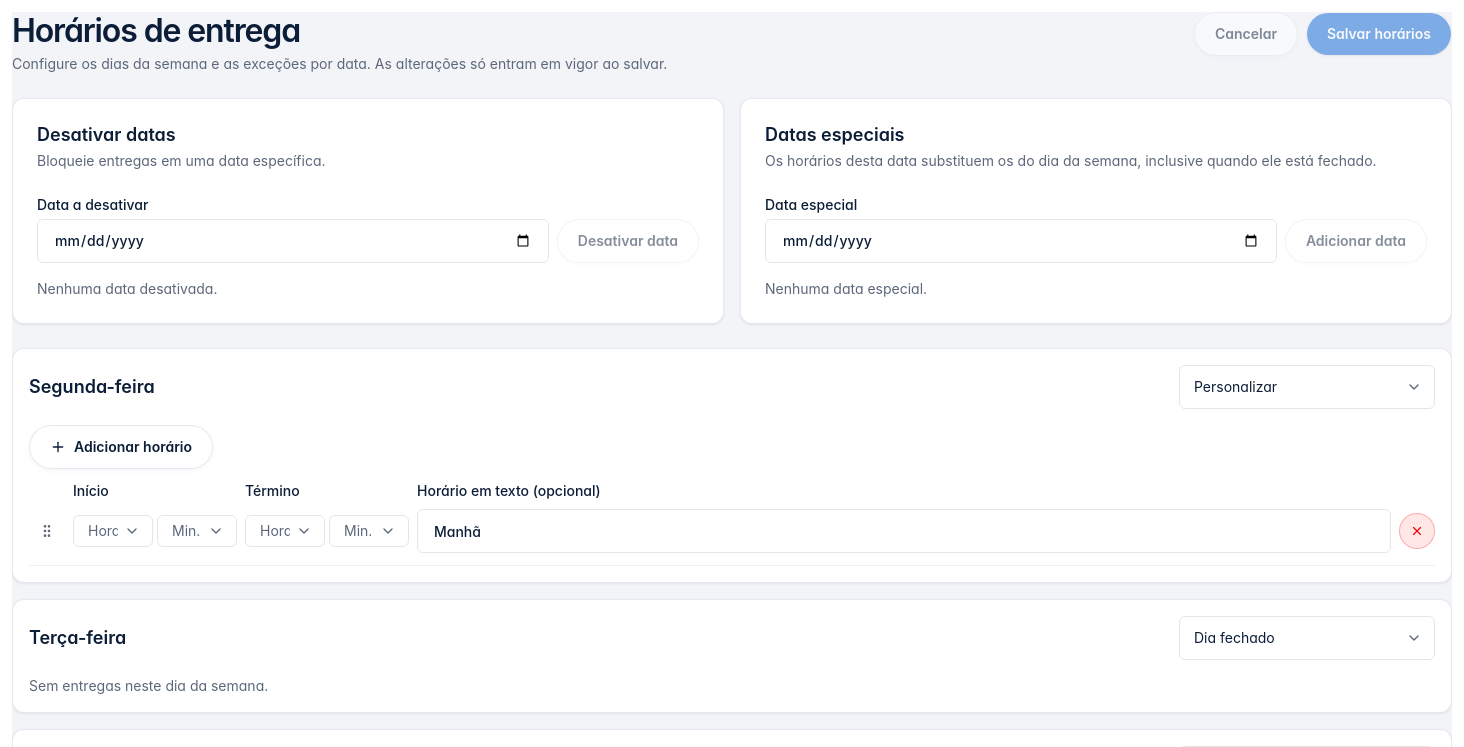
Scenario: agenda de entrega na interface › fecha um dia, inclui exceções e cancelar restaura a agenda
The width and height of the screenshot is (1464, 747).
Click the dropdown named "Configuração de Segunda-feira" at (1307, 387), box [1179,365,1435,409]
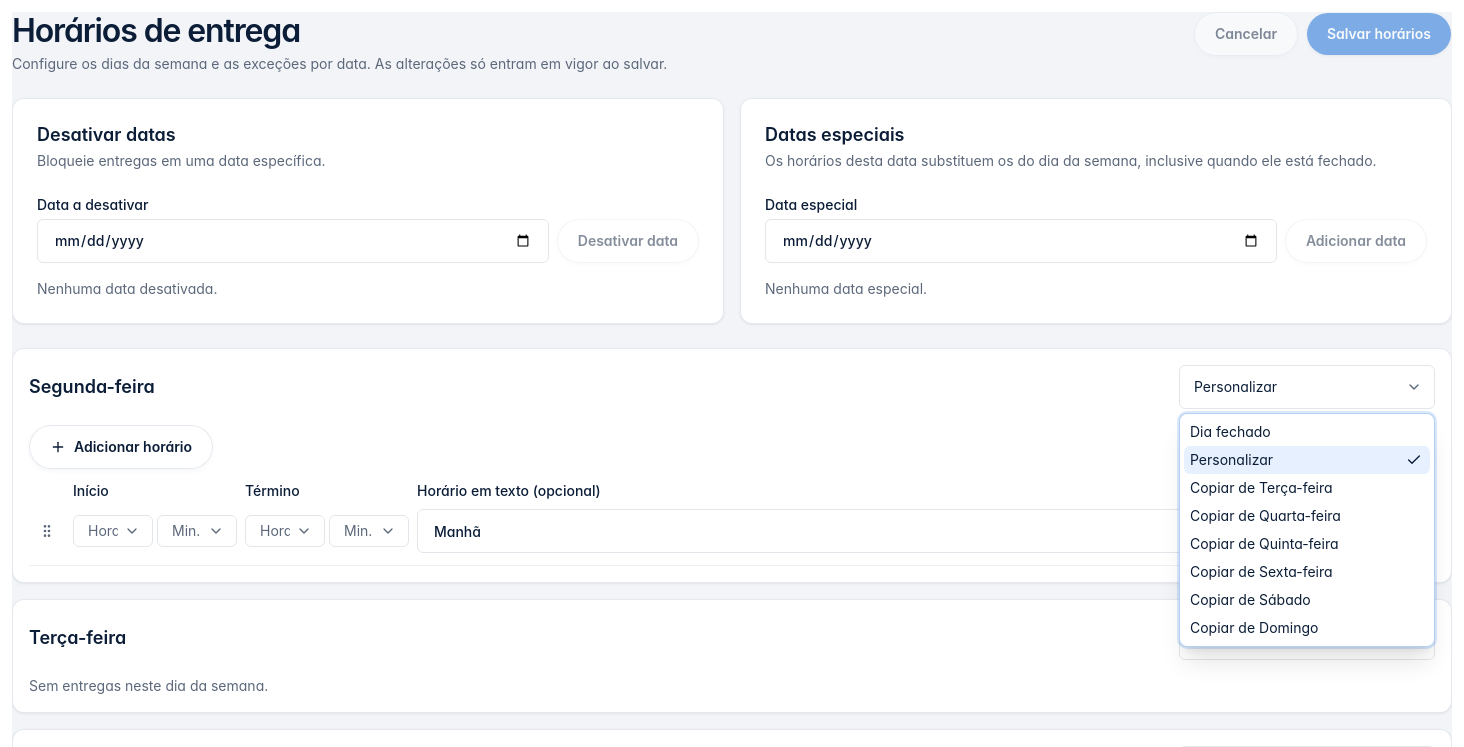
Click the option "Dia fechado" at (1230, 432), box [1190,423,1271,440]
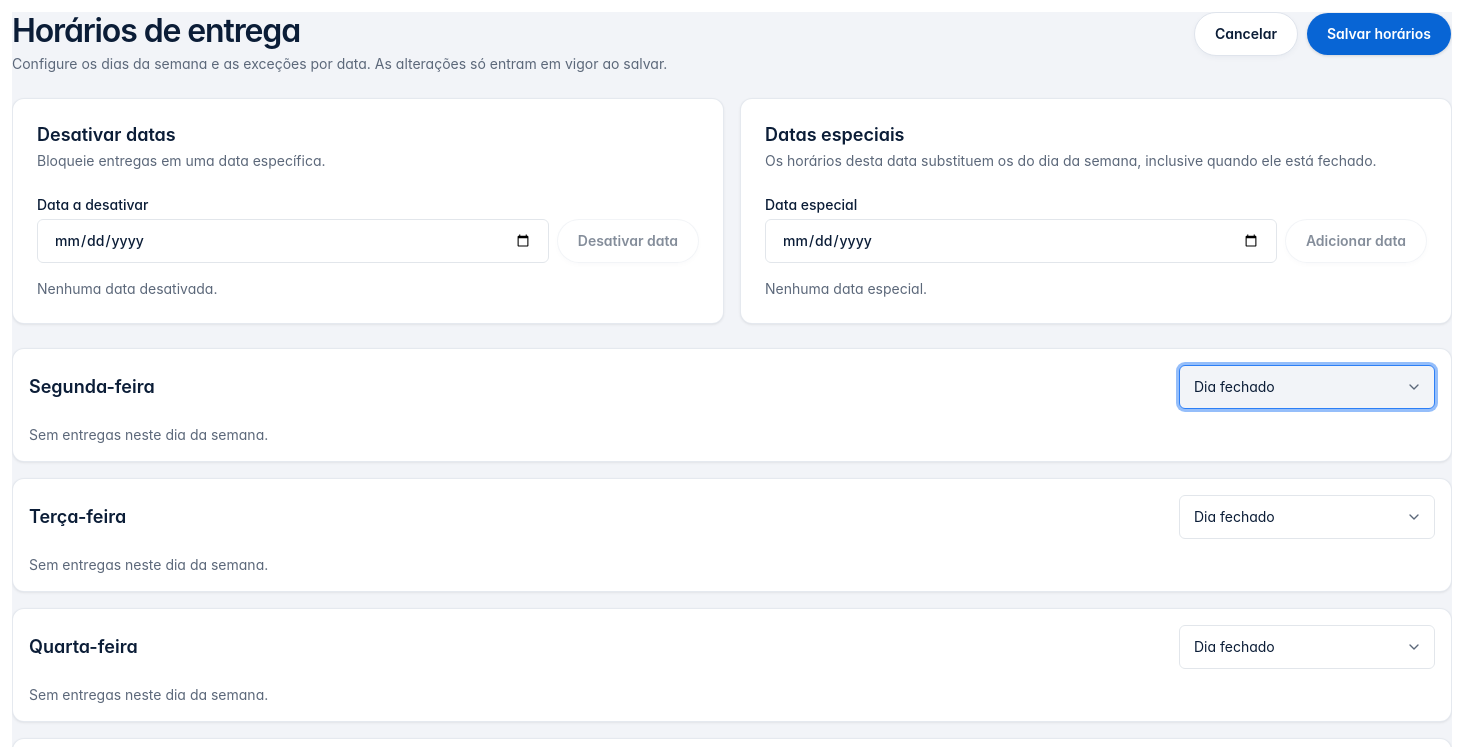
Expected: the field showing "Manhã" is not shown
Type "2026-10-10" into the date field labelled "Data a desativar" at (293, 241), box [37,219,549,263]
Click the button "Desativar data" at (628, 241), box [557,219,699,263]
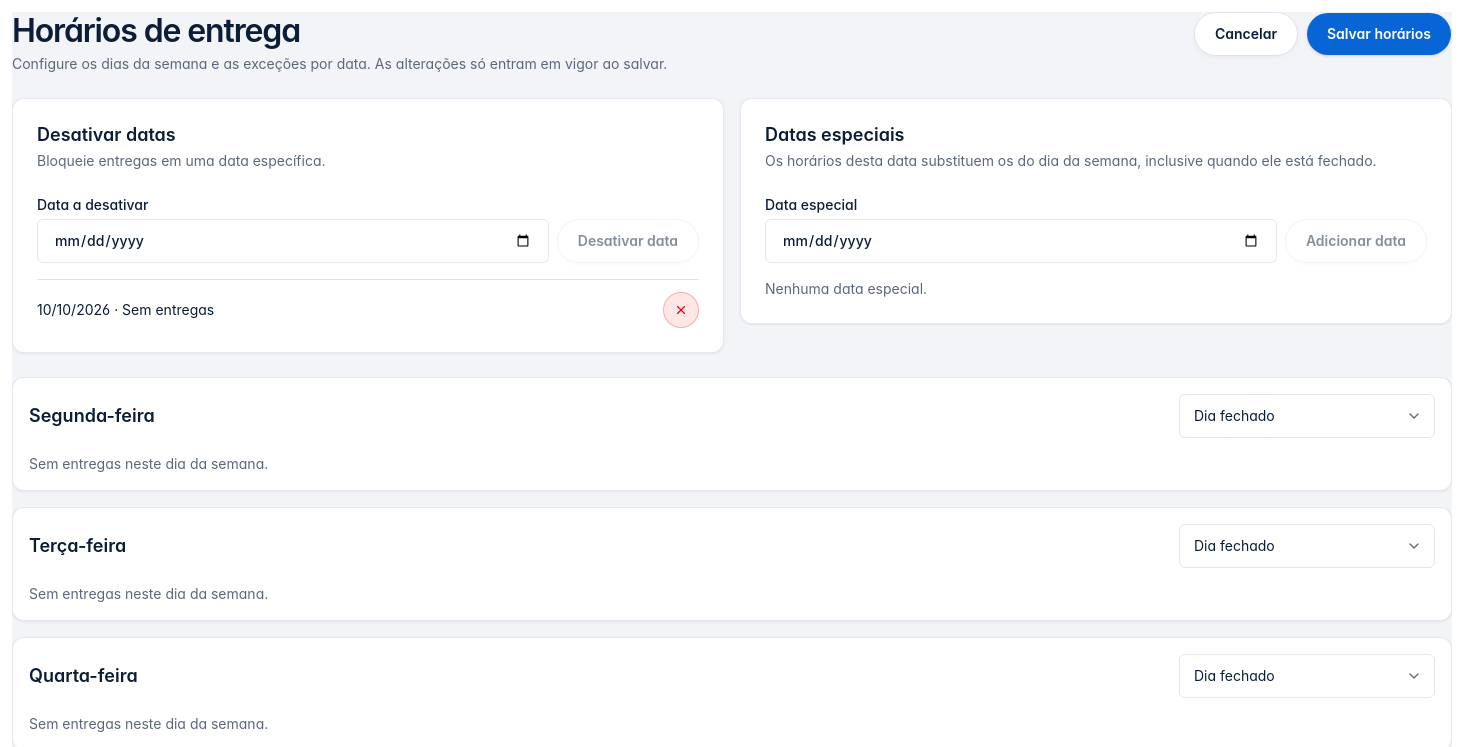
Type "2026-10-11" into the date field labelled "Data especial" at (1021, 241), box [765,219,1277,263]
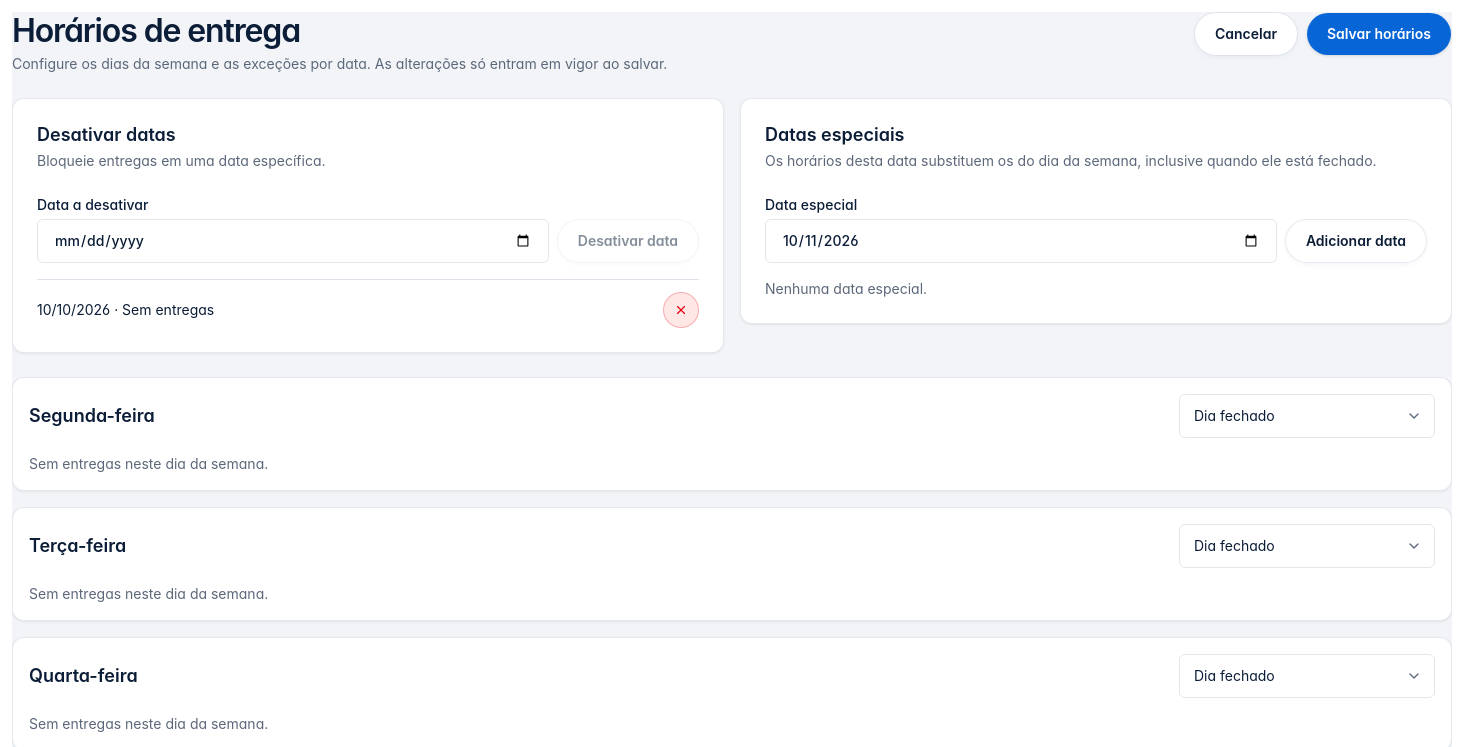
Click the button "Adicionar data" at (1356, 241), box [1285,219,1427,263]
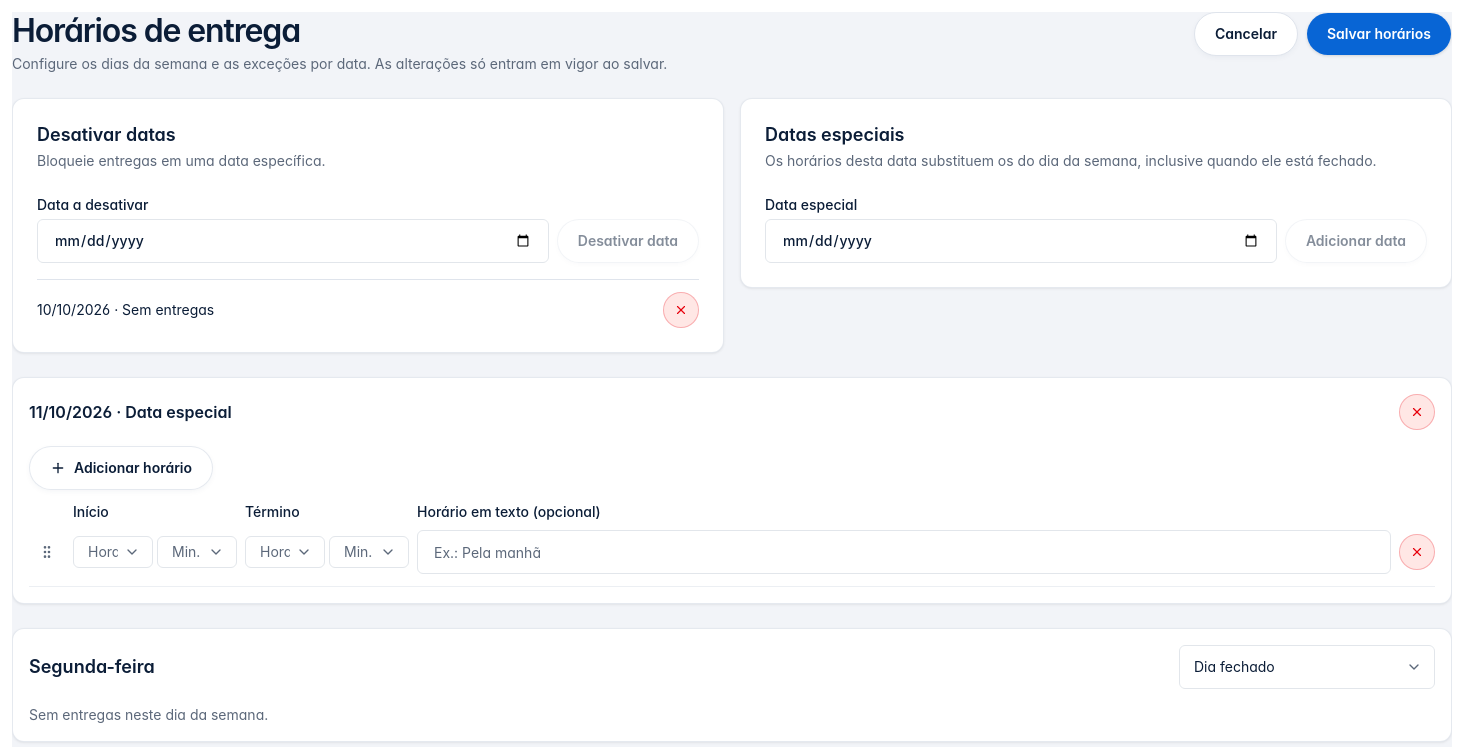
Now the element named "Horários especiais de 2026-10-11" is shown, box [12,377,1452,604]
Click the button "Cancelar" at (1246, 34), box [1194,12,1298,56]
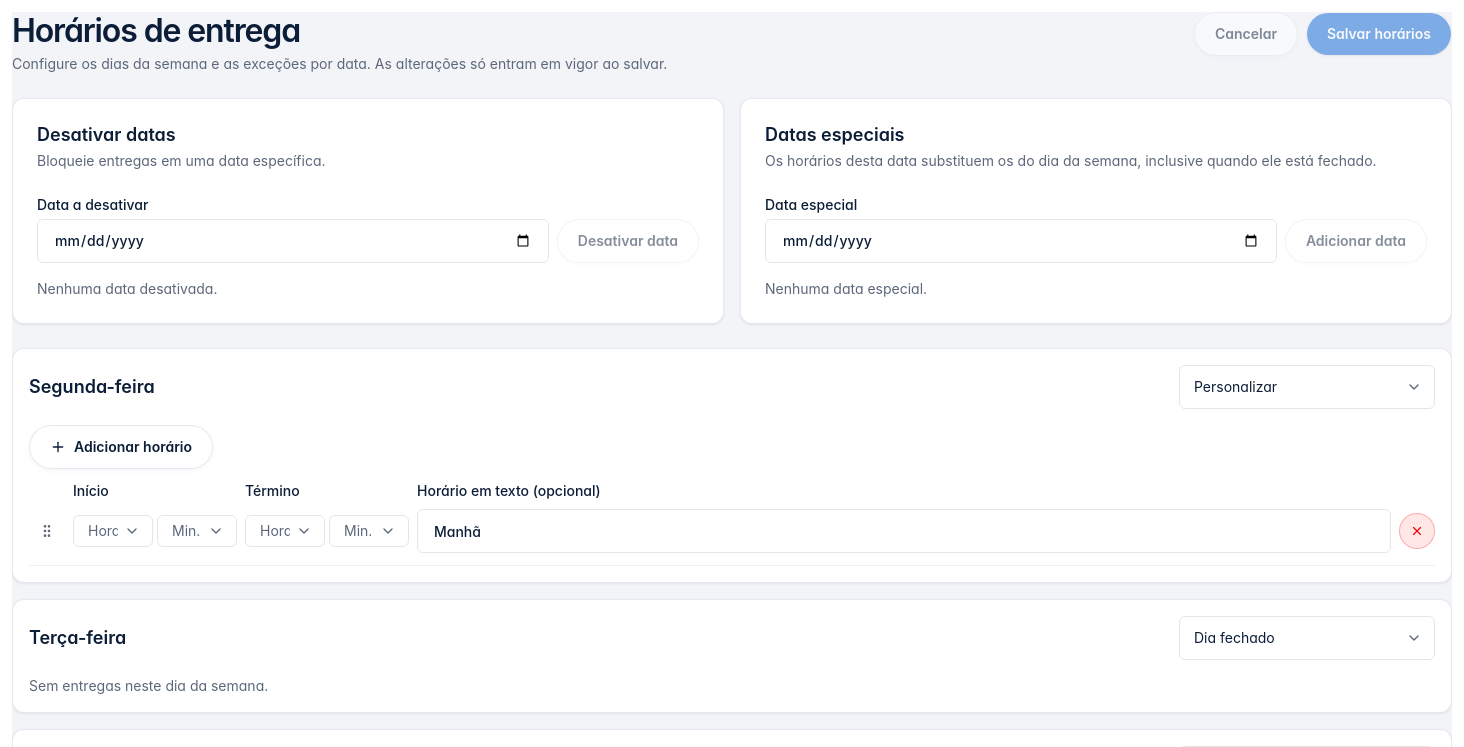
Now the field showing "Manhã" is shown, box [417,509,1391,553]
